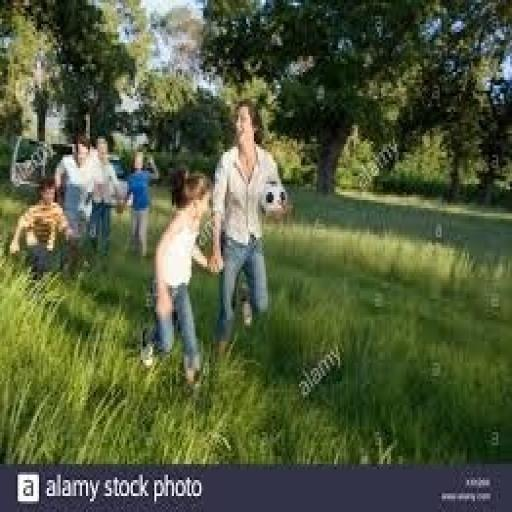running: (207, 96, 293, 360), (139, 166, 223, 390)
